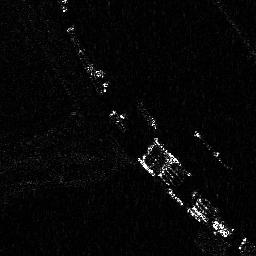ship: (193, 129, 235, 170)
